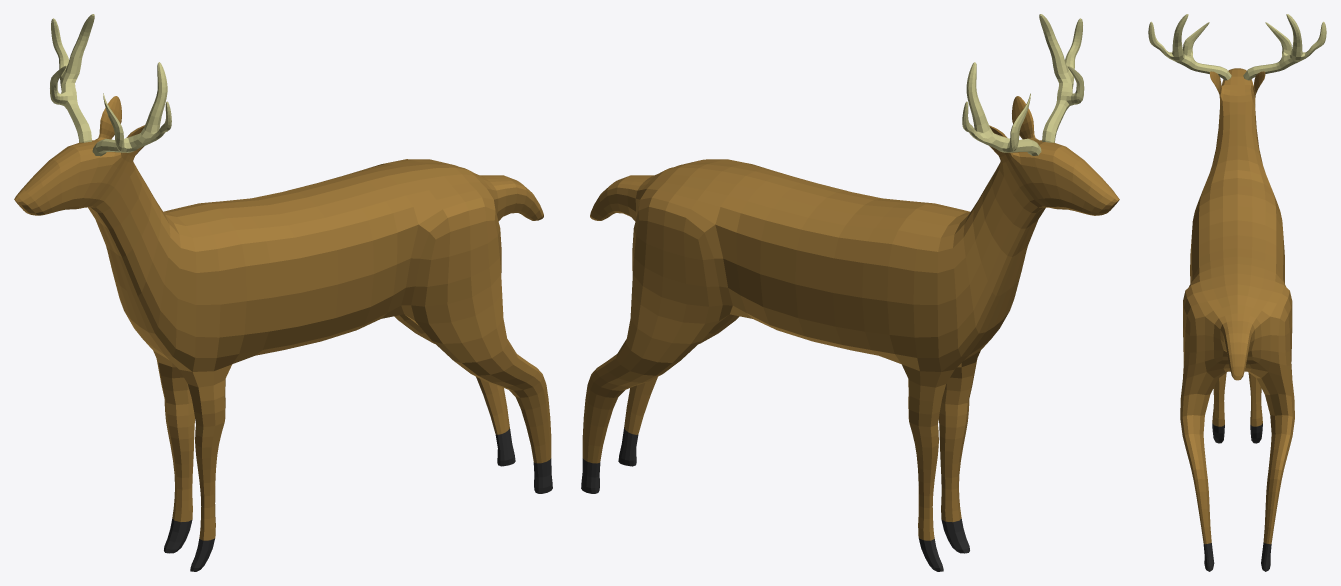
Rendered from Deer_low.fbx.
3 views of the same model, side by side, from view 1: azimuth 30°, elevation 25°; view 2: azimuth 150°, elevation 25°; view 3: azimuth 270°, elevation 25° (orthographic). The views are drawn at different scales.
Parts seen in each view (by area): view 1: Deer_low, Antler_low; view 2: Deer_low, Antler_low; view 3: Deer_low, Antler_low.
Part boxes in pixels (x1,y1,x2,y2): Deer_low: (14,96,552,571); Antler_low: (50,14,171,156); Deer_low: (581,96,1119,571); Antler_low: (962,14,1084,155); Deer_low: (1180,68,1294,571); Antler_low: (1148,14,1326,80).
Bounding box in the file's own units: 1109 × 1082 × 428.
